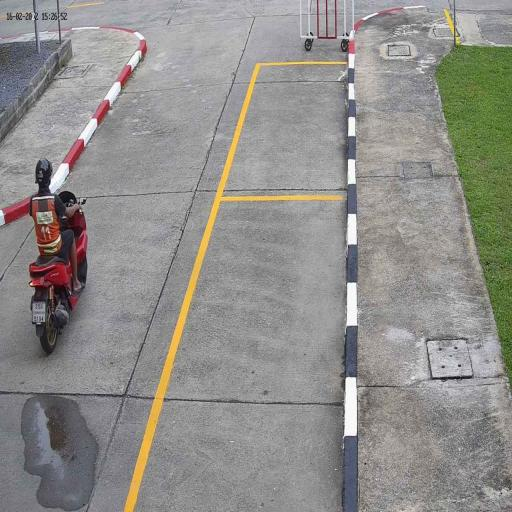motorcycle: (30, 191, 89, 355)
